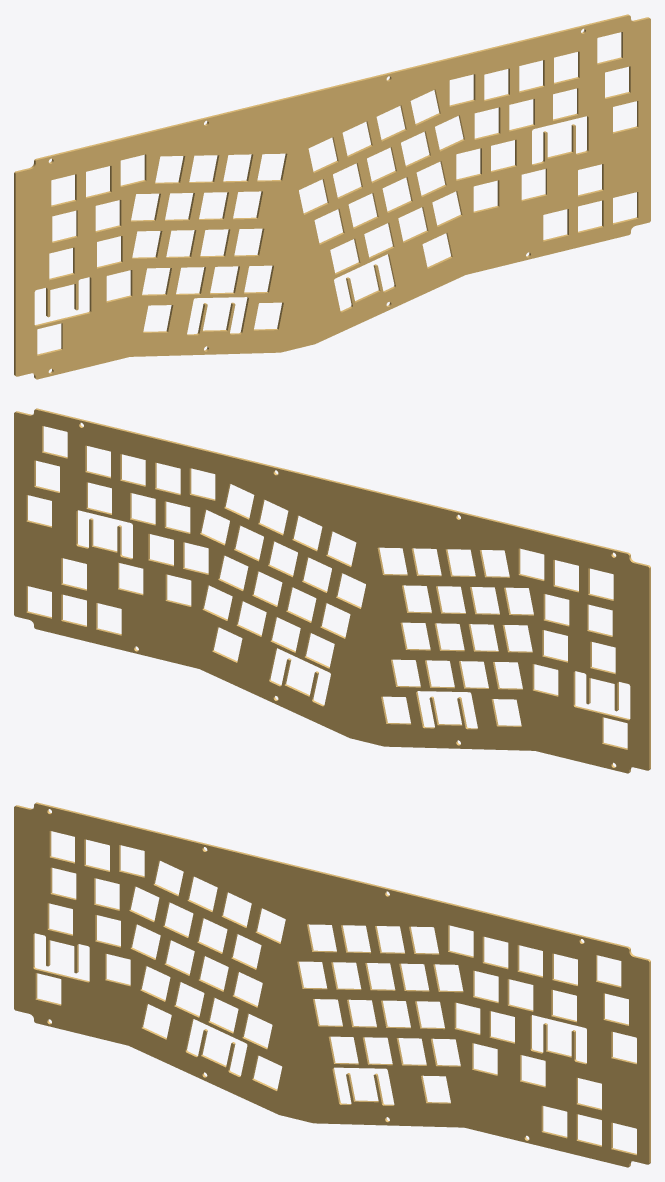
Rendered from plate render.obj.
The picture shows the model from 3 angles, top to bottom: view 1: azimuth 30°, elevation 25°; view 2: azimuth 150°, elevation 25°; view 3: azimuth 330°, elevation 25°; orthographic projection.
Parts seen in each view (by area): view 1: Part__Feature; view 2: Part__Feature; view 3: Part__Feature.
Part boxes in pixels (x1,y1,x2,y2): Part__Feature: (14, 14, 650, 379); Part__Feature: (14, 408, 650, 773); Part__Feature: (14, 802, 650, 1167).
Size of the model in its own units: 348 by 132 by 1.5.
